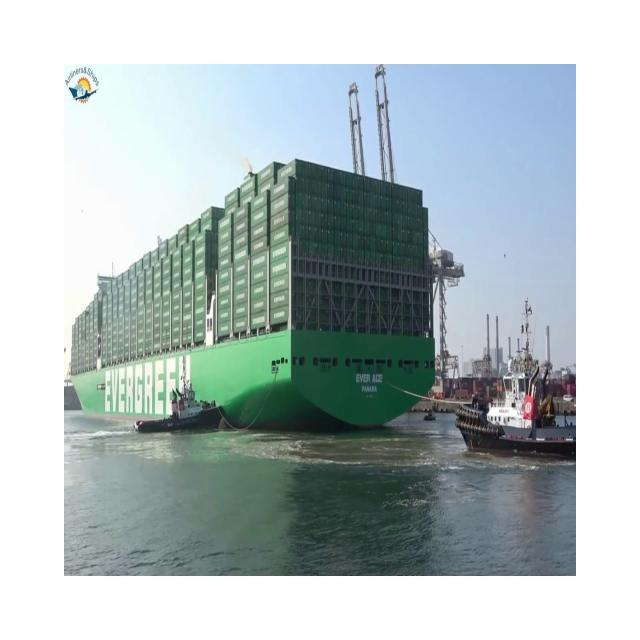OCR: (96, 354, 199, 420), (351, 364, 392, 405)
